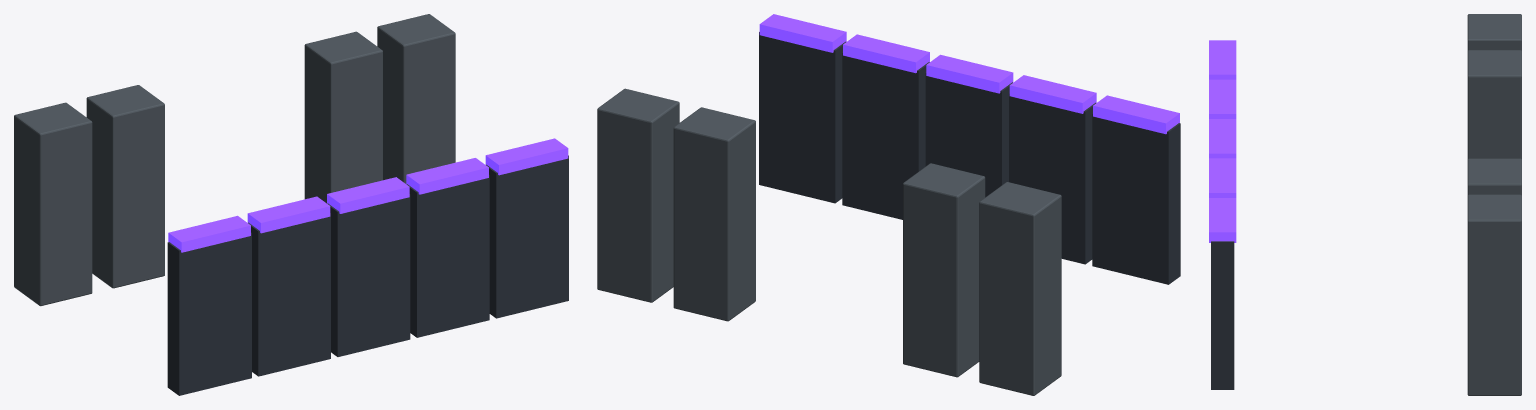
The model's file is 07_tide_wall.glb.
The picture shows the model from 3 angles, left to right: view 1: azimuth 30°, elevation 25°; view 2: azimuth 150°, elevation 25°; view 3: azimuth 270°, elevation 25°; orthographic projection. The views are drawn at different scales.
Visible parts, largest first — view 1: tide_pillar_0, tide_pillar_1, tide_panel_0, tide_pillar_4, tide_panel_2, tide_panel_3, tide_panel_4, tide_panel_1, tide_pillar_5, tide_crest_1_nocol, tide_crest_4_nocol, tide_crest_2_nocol (+2 smaller); view 2: tide_pillar_4, tide_pillar_0, tide_pillar_1, tide_pillar_5, tide_panel_0, tide_panel_4, tide_panel_3, tide_panel_1, tide_panel_2, tide_crest_1_nocol, tide_crest_2_nocol, tide_crest_4_nocol (+2 smaller); view 3: tide_pillar_5, tide_pillar_1, tide_panel_4, tide_pillar_4, tide_pillar_0, tide_crest_4_nocol, tide_crest_0_nocol, tide_crest_3_nocol, tide_crest_1_nocol, tide_crest_2_nocol.
Boxes of the visible parts, bbox=[...] form: tide_pillar_0: bbox=[14, 102, 92, 306]; tide_pillar_1: bbox=[86, 85, 164, 288]; tide_panel_0: bbox=[167, 232, 251, 395]; tide_pillar_4: bbox=[304, 31, 382, 203]; tide_panel_2: bbox=[327, 194, 410, 356]; tide_panel_3: bbox=[406, 175, 489, 337]; tide_panel_4: bbox=[486, 155, 568, 318]; tide_panel_1: bbox=[248, 213, 330, 376]; tide_pillar_5: bbox=[377, 14, 455, 183]; tide_crest_1_nocol: bbox=[247, 196, 330, 233]; tide_crest_4_nocol: bbox=[485, 138, 568, 175]; tide_crest_2_nocol: bbox=[327, 177, 409, 213]; tide_pillar_4: bbox=[673, 107, 755, 321]; tide_pillar_0: bbox=[979, 182, 1061, 395]; tide_pillar_1: bbox=[903, 163, 985, 377]; tide_pillar_5: bbox=[597, 88, 679, 302]; tide_panel_0: bbox=[1092, 113, 1180, 284]; tide_panel_4: bbox=[759, 32, 845, 203]; tide_panel_3: bbox=[842, 52, 929, 219]; tide_panel_1: bbox=[1009, 93, 1095, 264]; tide_panel_2: bbox=[925, 72, 1012, 197]; tide_crest_1_nocol: bbox=[1009, 75, 1096, 113]; tide_crest_2_nocol: bbox=[926, 54, 1013, 93]; tide_crest_4_nocol: bbox=[759, 14, 846, 52]; tide_pillar_5: bbox=[1467, 194, 1521, 395]; tide_pillar_1: bbox=[1467, 50, 1521, 159]; tide_panel_4: bbox=[1211, 241, 1234, 389]; tide_pillar_4: bbox=[1467, 158, 1521, 195]; tide_pillar_0: bbox=[1467, 14, 1521, 50]; tide_crest_4_nocol: bbox=[1209, 198, 1236, 242]; tide_crest_0_nocol: bbox=[1209, 40, 1236, 79]; tide_crest_3_nocol: bbox=[1209, 158, 1236, 197]; tide_crest_1_nocol: bbox=[1209, 79, 1236, 118]; tide_crest_2_nocol: bbox=[1209, 119, 1236, 158].
Bounding box in the file's own units: 25.2 × 10 × 16.1.
